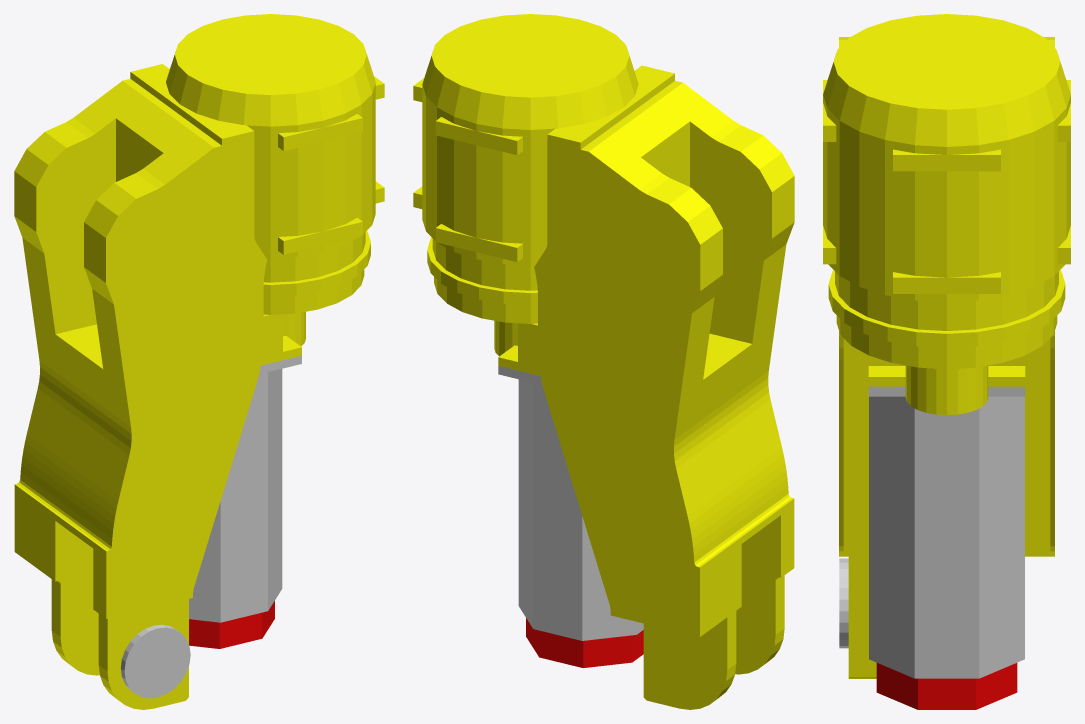
3 renders of one model, left to right at view 1: azimuth 30°, elevation 25°; view 2: azimuth 150°, elevation 25°; view 3: azimuth 270°, elevation 25°, orthographic. The views are drawn at different scales.
Visible parts, largest first — view 1: node; view 2: node; view 3: node.
Boxes of the visible parts, x1,y1,x2,y2 form: node: (14,14,384,709); node: (413,14,794,709); node: (823,14,1070,709).
Size of the model in its own units: 456 by 845 by 275.
